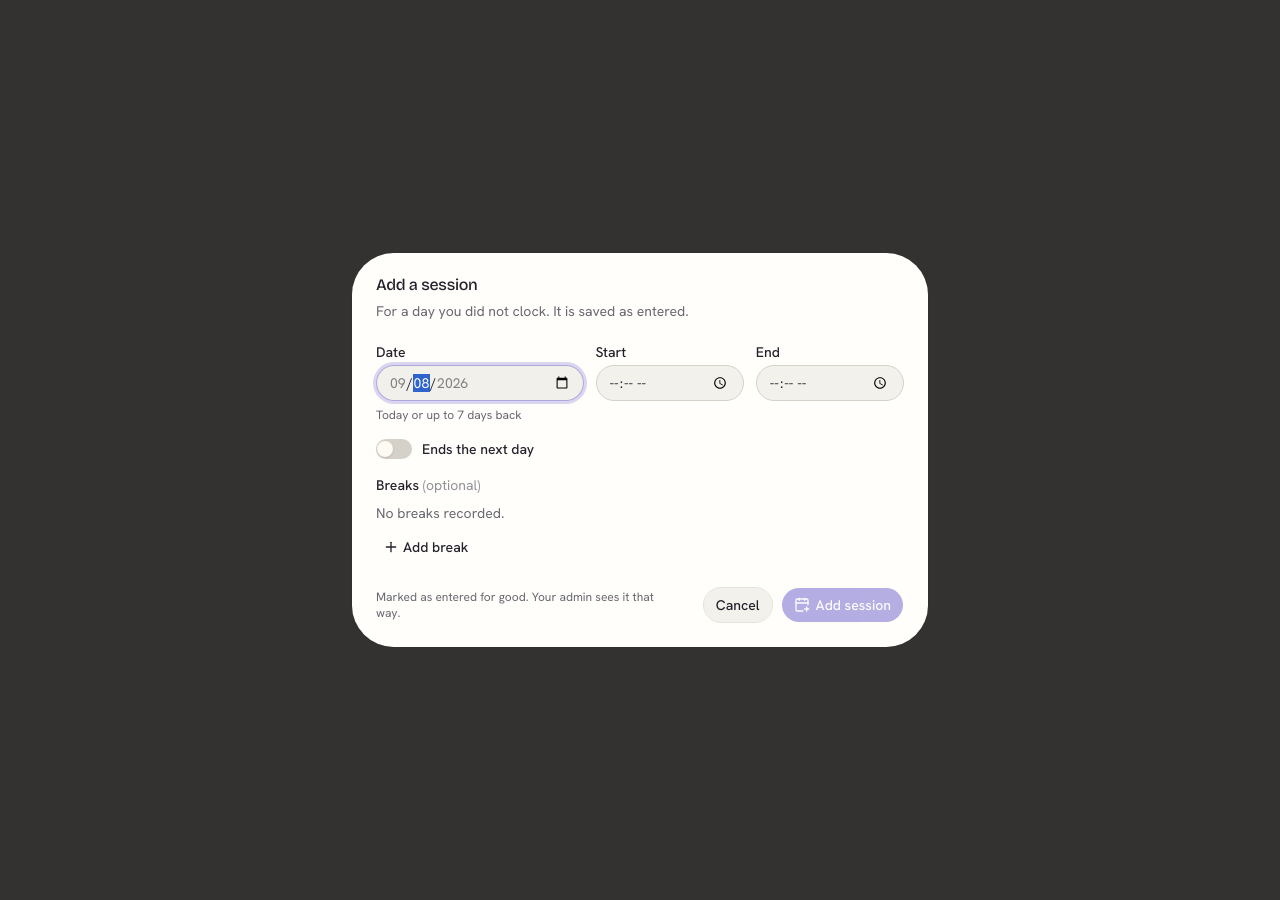
Test: EntryDialog › breaks › shows what the day will count: presence, breaks and worked
The width and height of the screenshot is (1280, 900).
Step 1. Type "08:10" into the time field labelled "Start" → point(670, 383), box [596, 365, 744, 401]
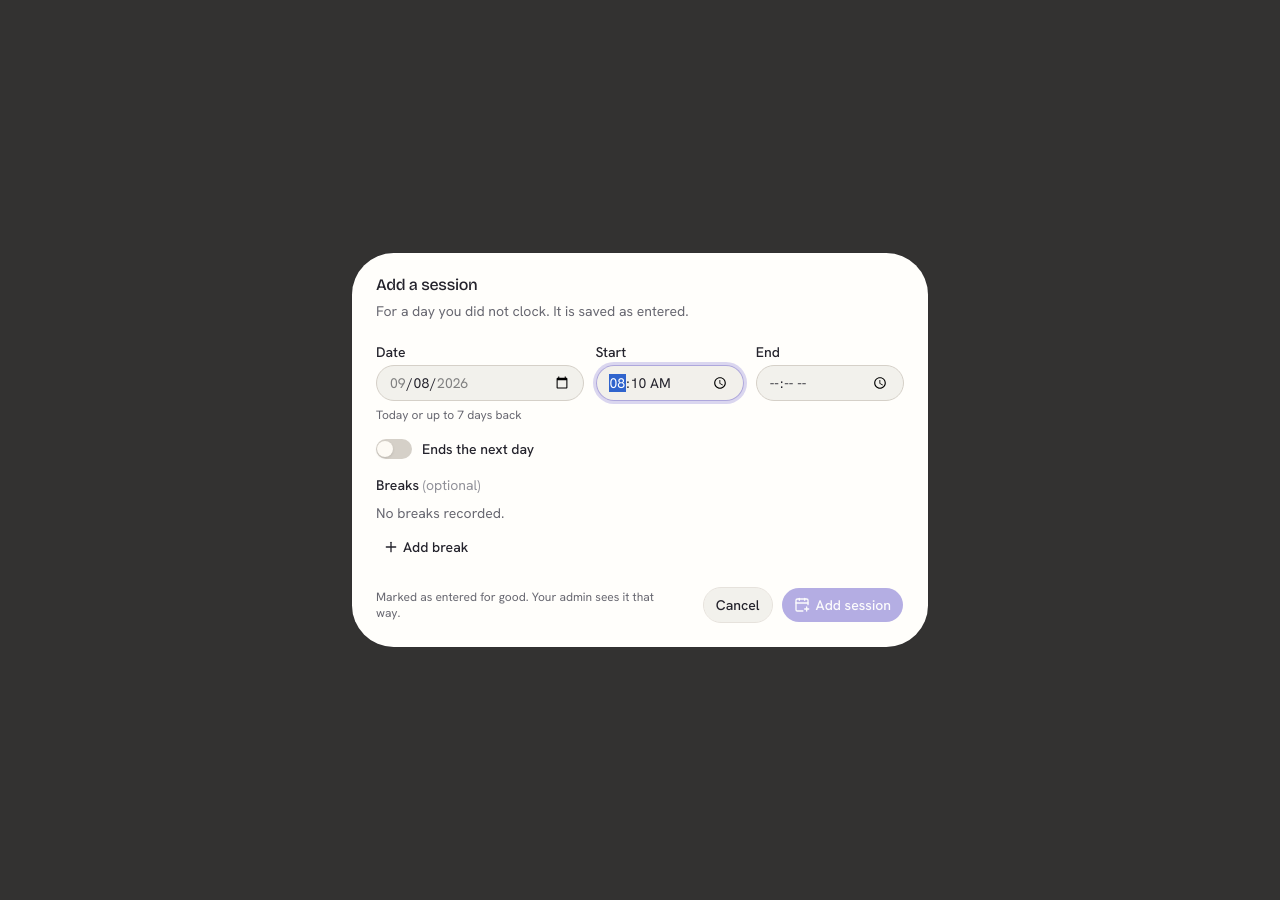
Step 2. Type "16:55" into the time field labelled "End" → point(830, 383), box [756, 365, 904, 401]
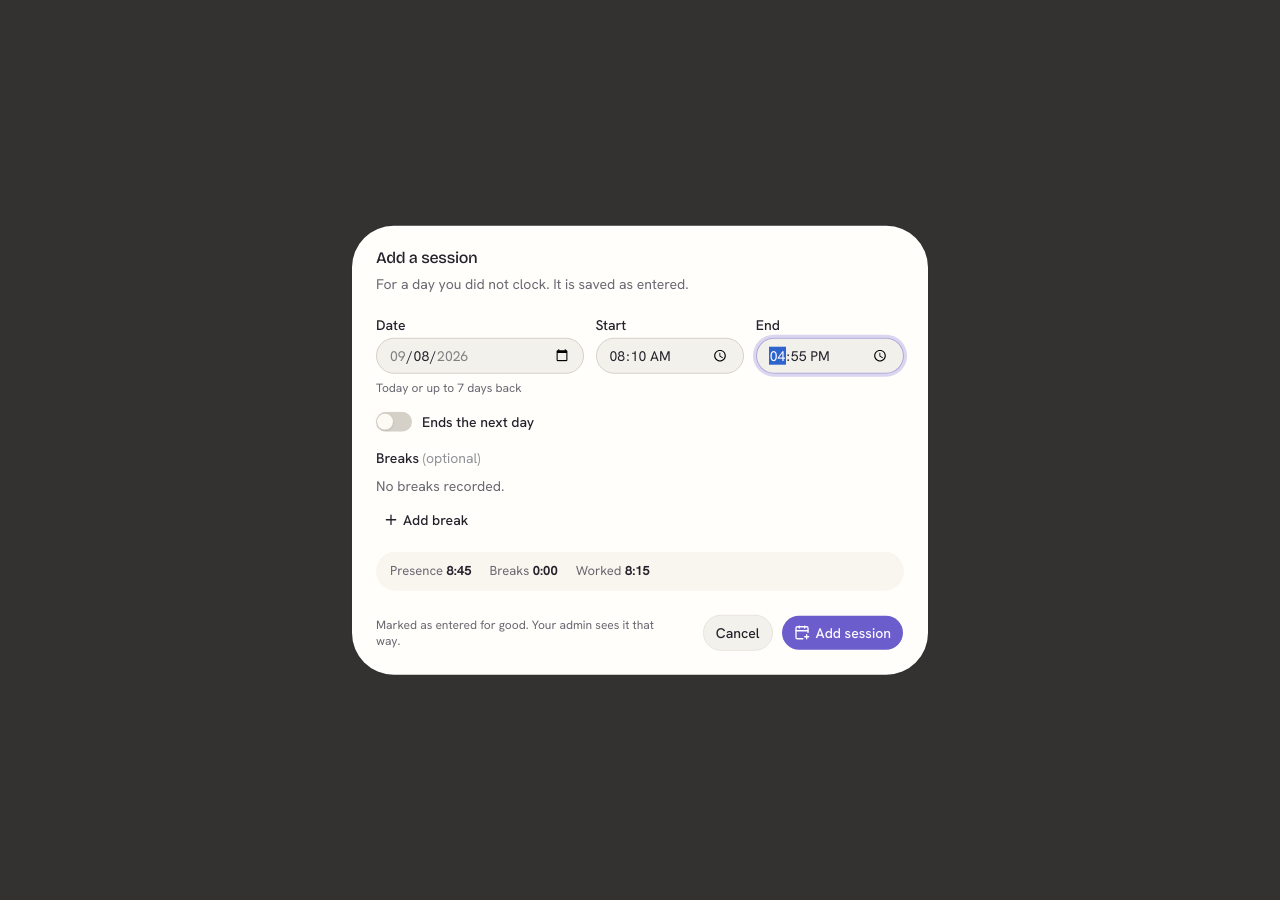
Step 3. Click the button "Add break" → point(429, 520), box [376, 504, 481, 536]
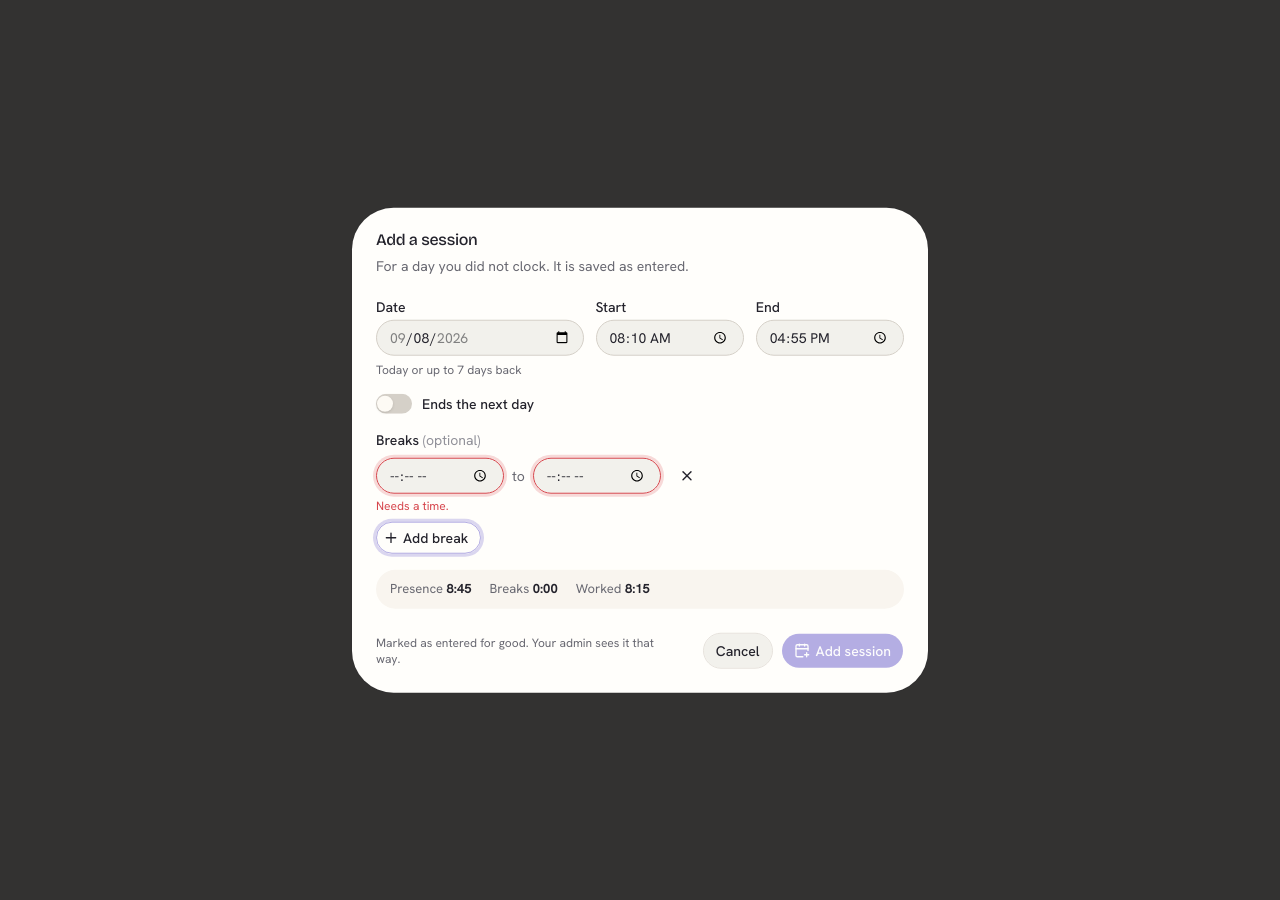
Step 4. Type "12:00" into the 1st time field named "Breaks" → point(440, 476), box [376, 458, 504, 494]
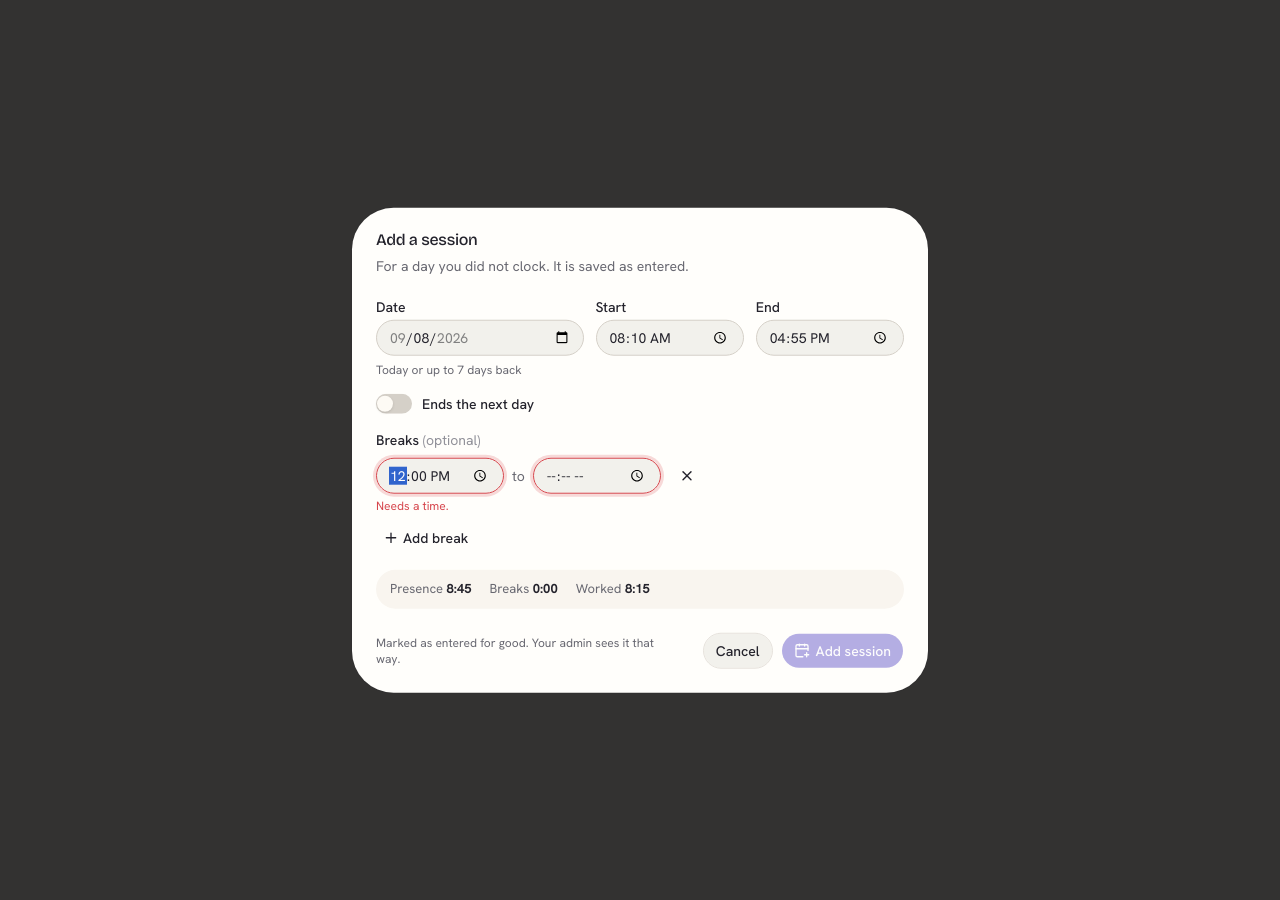
Step 5. Type "12:45" into the 2nd time field named "to" → point(597, 476), box [533, 458, 661, 494]
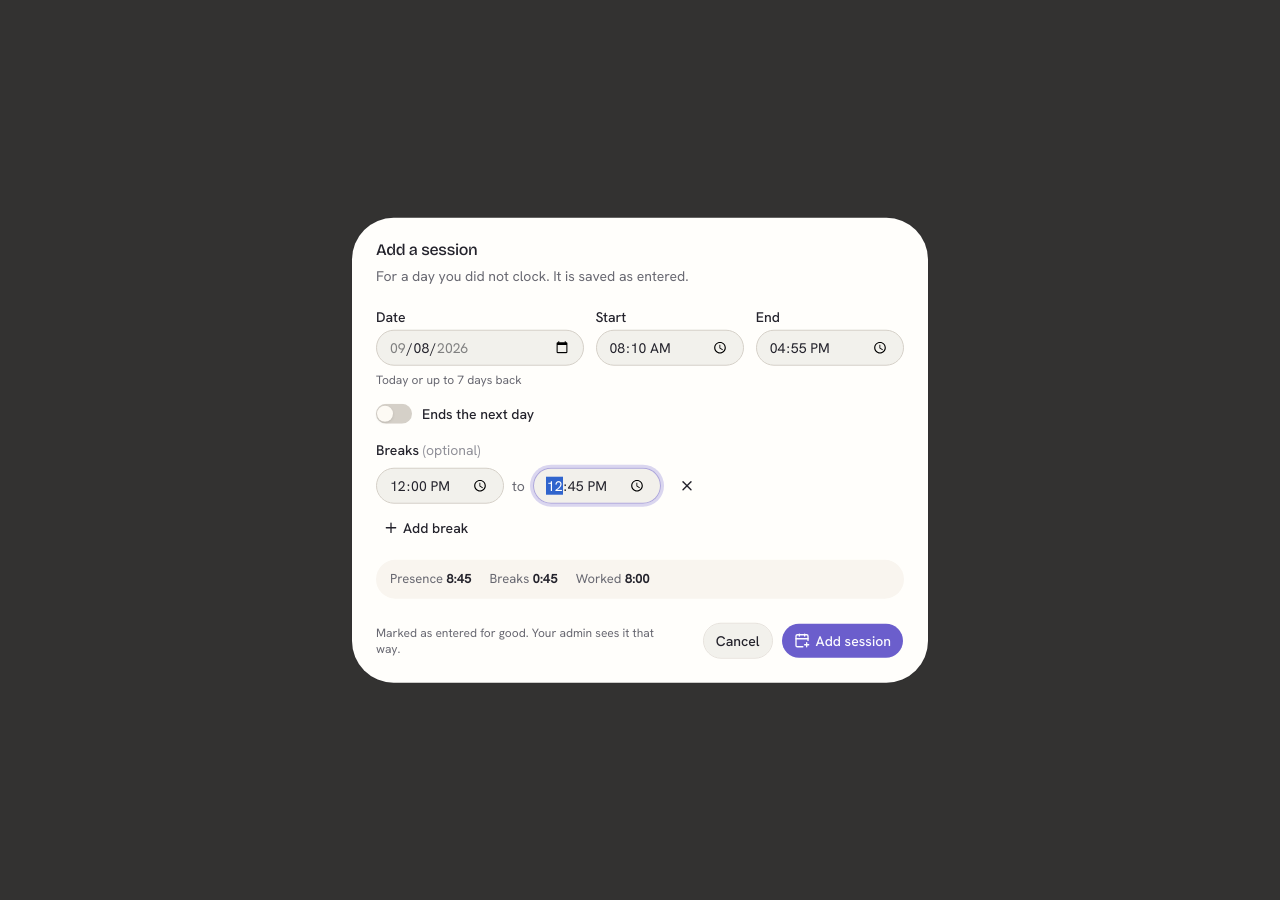
Expected: the element with test id "entry-summary" shows "Presence 8:45", [376, 560, 904, 598]
Expected: the element with test id "entry-summary" shows "Breaks 0:45", [376, 560, 904, 598]
Expected: the element with test id "entry-summary" shows "Worked 8:00", [376, 560, 904, 598]
